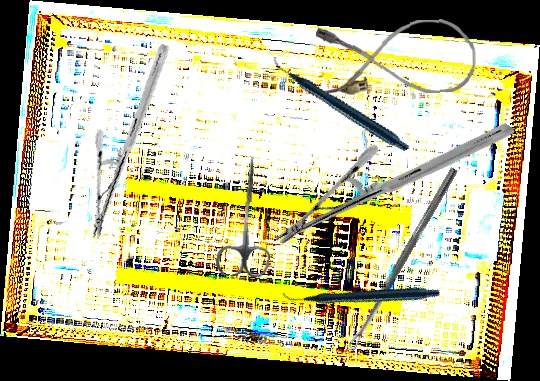Cannula: (315, 18, 478, 97)
Handpiece: (280, 217, 442, 369), (272, 23, 411, 183)
Iris Scissors: (215, 154, 277, 279)
Needle Holder: (273, 52, 516, 316), (62, 43, 198, 240)
Surgical Spoon: (346, 166, 459, 351)
